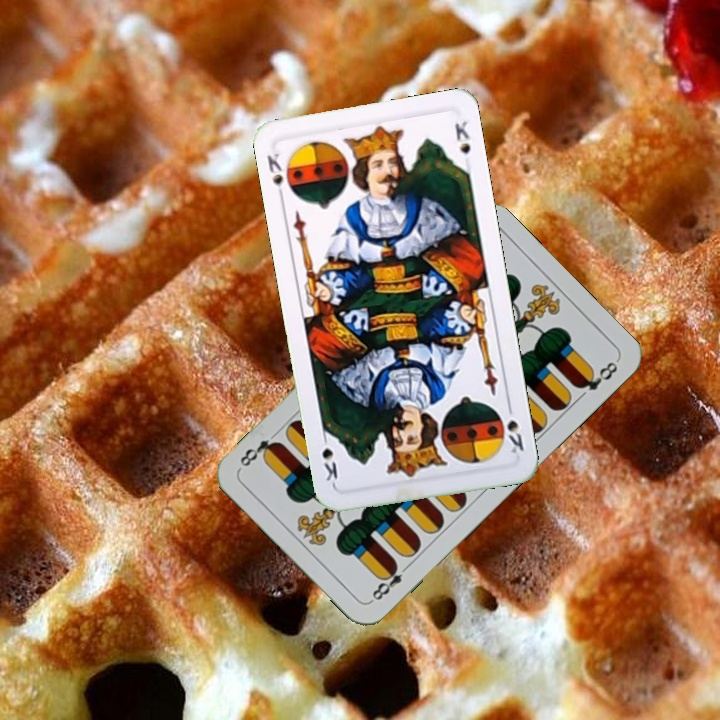E8: (366, 559, 414, 605)
SK: (263, 149, 287, 204), (503, 399, 526, 456)
